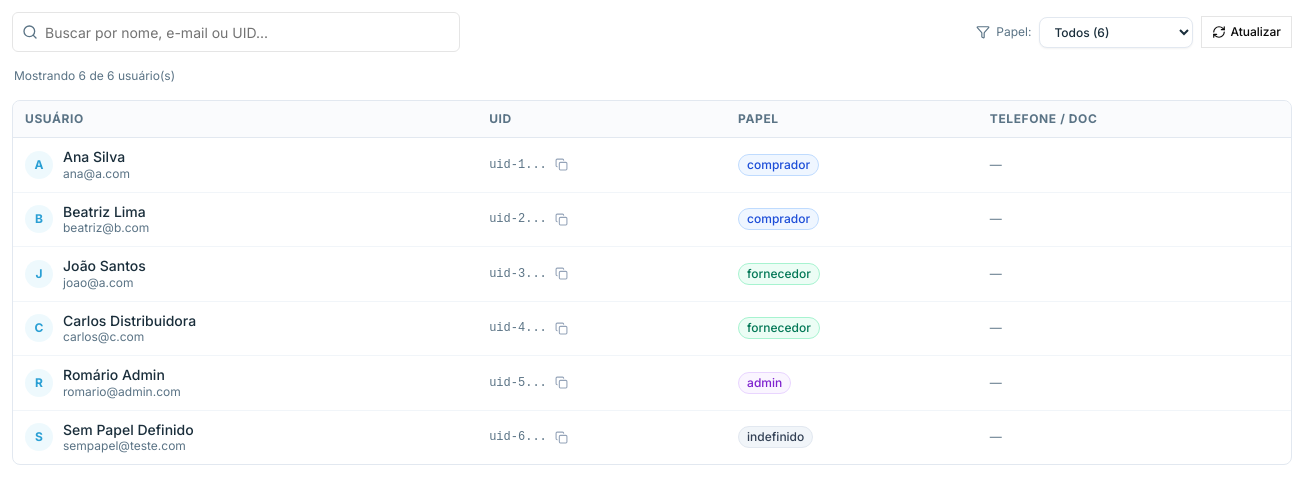
Scenario: AdminUsersTab › filtra usuários por busca de texto (nome ou e-mail)
Expected: the text "Ana Silva" is shown, [63, 148, 130, 166]
Type "João" into the field with placeholder "Buscar por nome, e-mail ou UID...". click: [236, 32]
box: [12, 12, 460, 52]
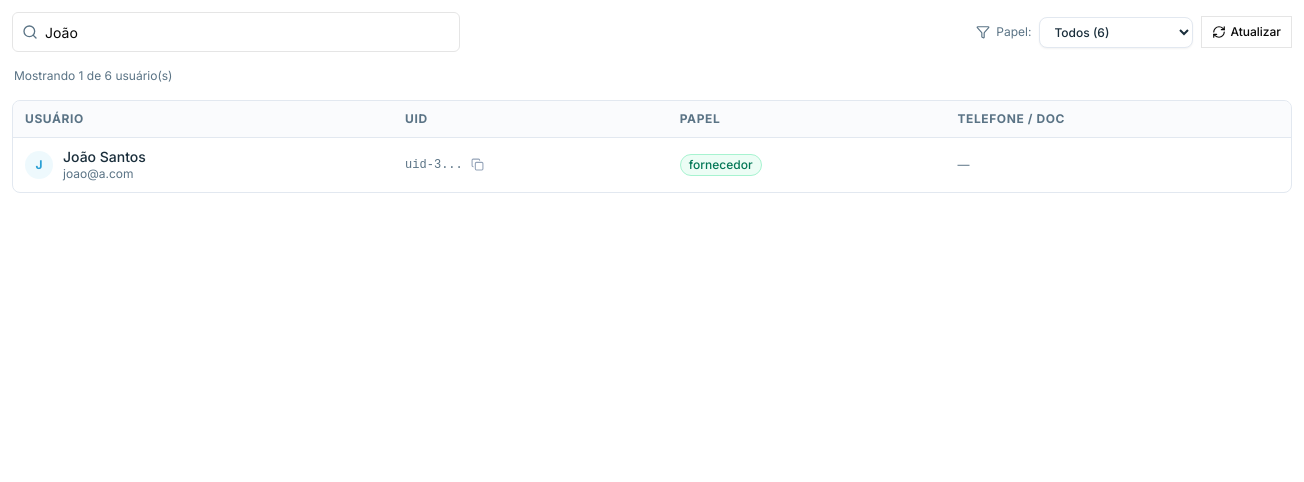
Expected: the text "João Santos" is shown, [63, 148, 146, 166]
Now the text "Ana Silva" is gone
Now the text "Romário Admin" is gone
